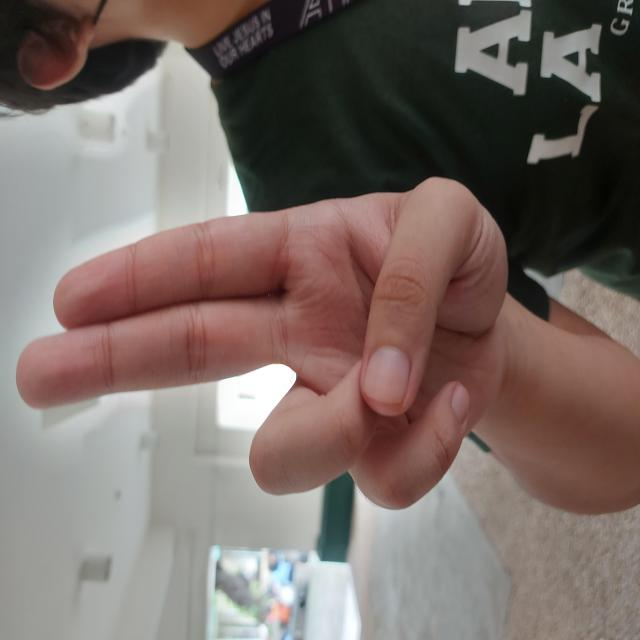U: (127, 12, 467, 511)
